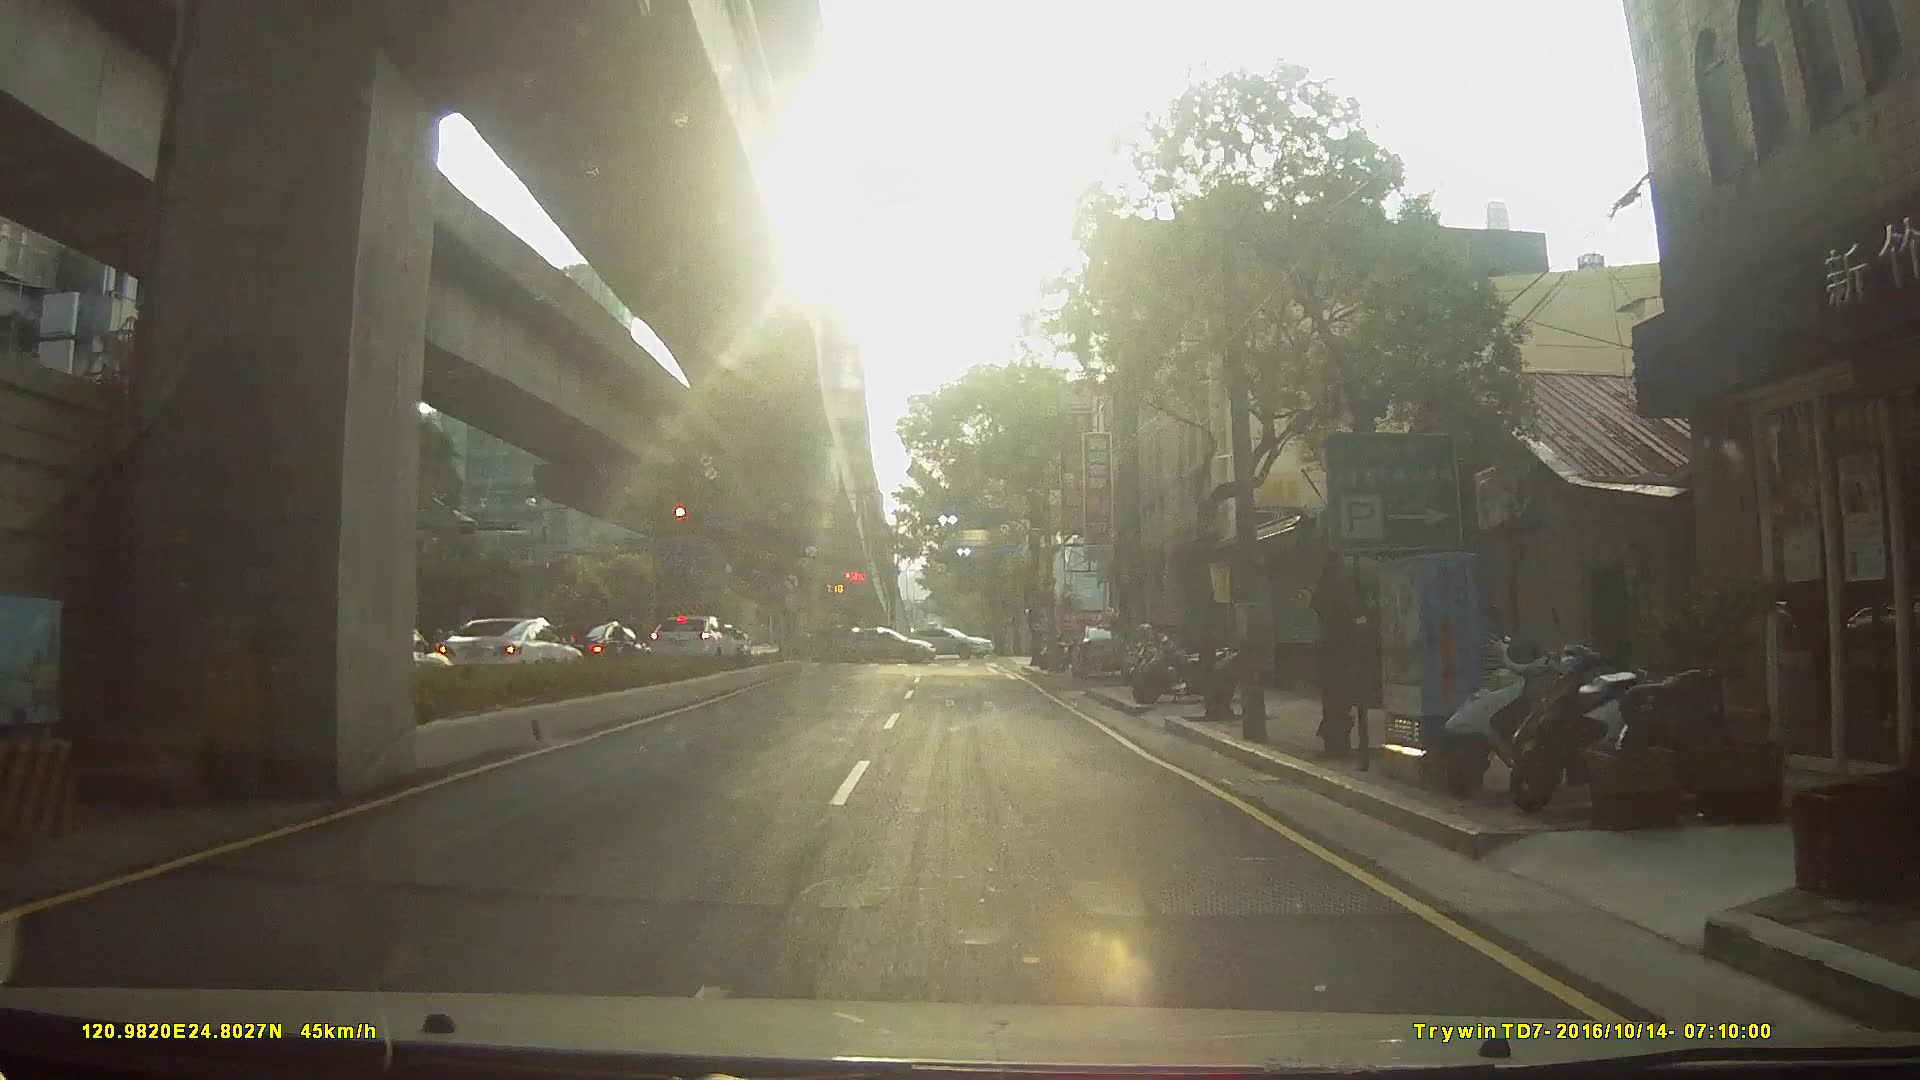vehicle: (425, 616, 578, 687), (539, 620, 650, 676), (642, 616, 742, 669), (836, 625, 943, 663), (1068, 618, 1135, 676), (907, 624, 1000, 659), (804, 624, 881, 665)
